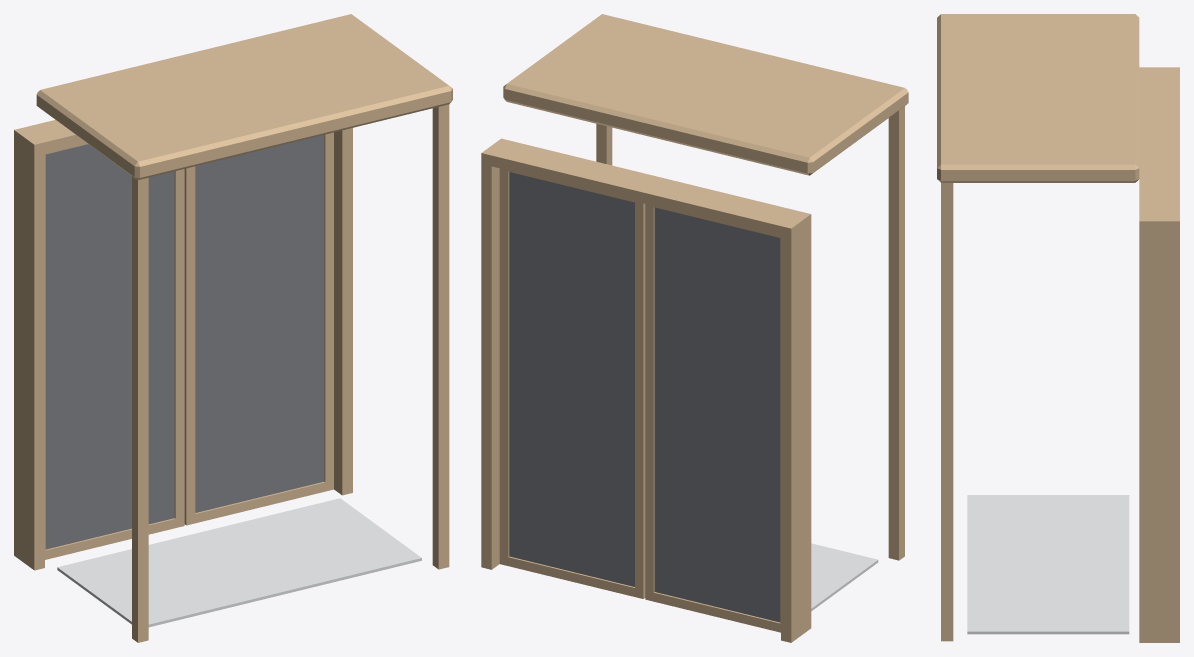
Rendered from entrance.glb.
3 views of the same model, side by side, from view 1: azimuth 30°, elevation 25°; view 2: azimuth 150°, elevation 25°; view 3: azimuth 270°, elevation 25° (orthographic). The views are drawn at different scales.
Visible parts, largest first — view 1: entrance; view 2: entrance; view 3: entrance.
Boxes of the visible parts, x1,y1,x2,y2 form: entrance: [14, 14, 452, 642]; entrance: [481, 14, 908, 642]; entrance: [937, 14, 1179, 642].
Size of the model in its own units: 1.8 by 2.6 by 1.2.
